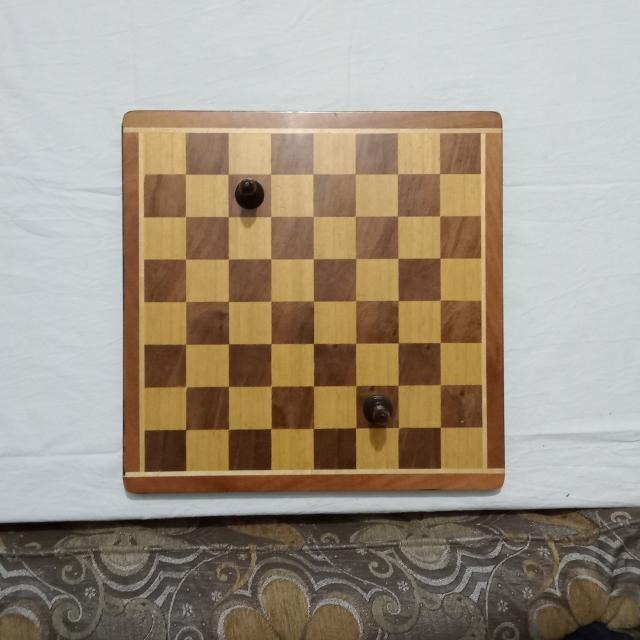black-bishop: (233, 177, 265, 211), (362, 393, 394, 426)
